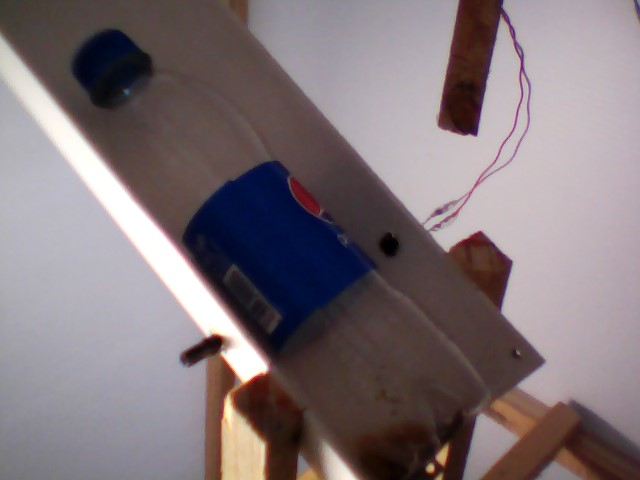plastico: (59, 24, 493, 480)
